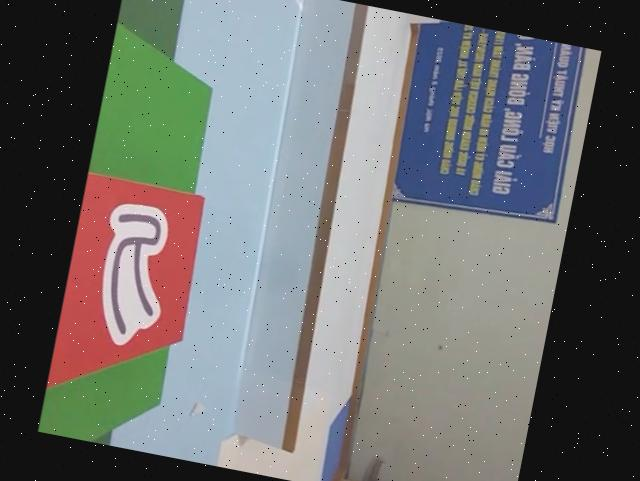R2 Fake: (45, 170, 212, 420)
